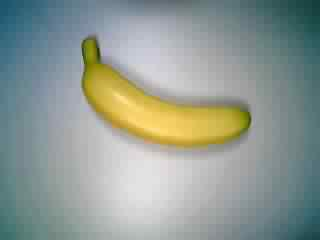banana: (78, 34, 254, 156)
